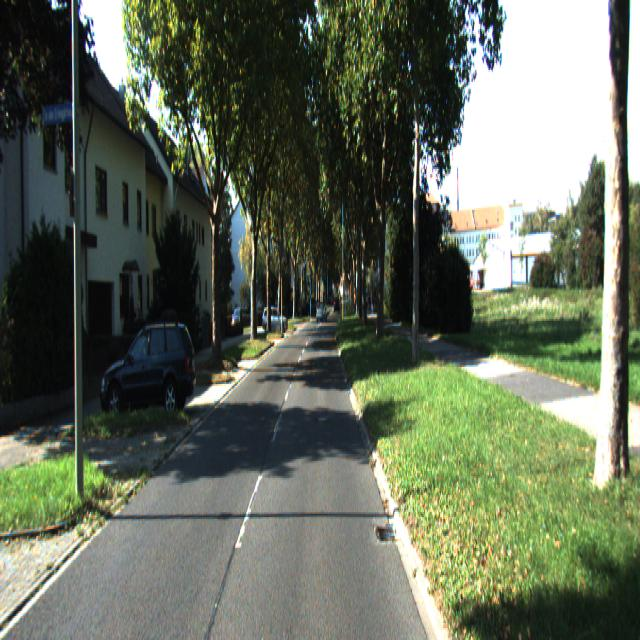Car: (100, 316, 199, 422), (261, 304, 288, 331)
